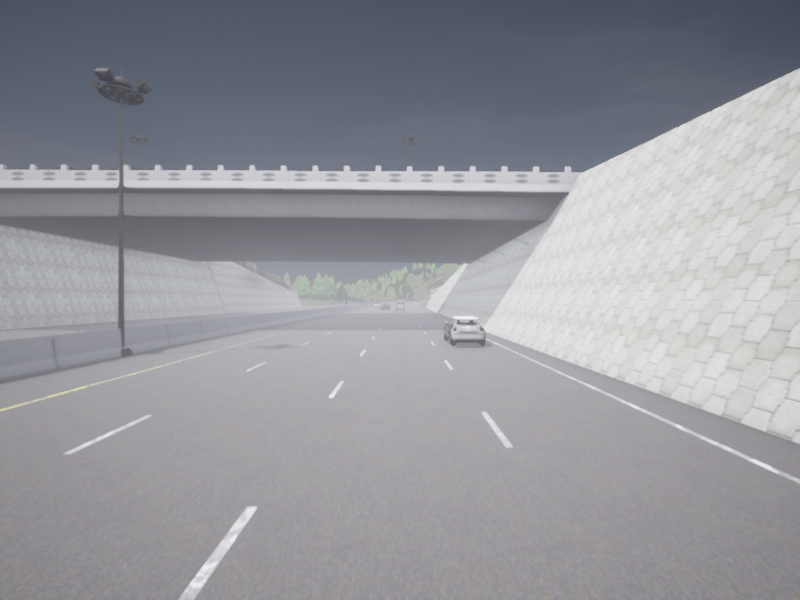vehicle: (444, 317, 485, 344), (395, 300, 405, 309), (374, 301, 381, 307), (382, 304, 390, 309), (381, 301, 385, 304)
